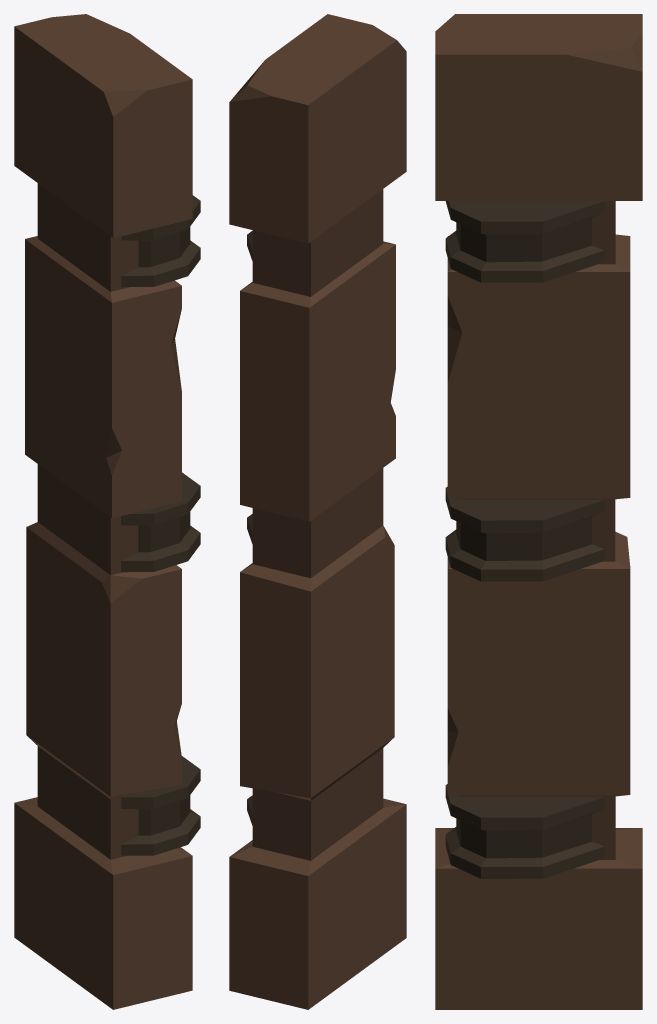
Rendered from SM_Env_Port_Drydock_Gate_Hinge_01.fbx.
3 views of the same model, side by side, from view 1: azimuth 30°, elevation 25°; view 2: azimuth 150°, elevation 25°; view 3: azimuth 270°, elevation 25° (orthographic). The views are drawn at different scales.
Parts seen in each view (by area): view 1: SM_Env_Port_Drydock_Gate_Hinge_01; view 2: SM_Env_Port_Drydock_Gate_Hinge_01; view 3: SM_Env_Port_Drydock_Gate_Hinge_01.
Part boxes in pixels (<box>): SM_Env_Port_Drydock_Gate_Hinge_01: <box>14,14,200,1009</box>; SM_Env_Port_Drydock_Gate_Hinge_01: <box>229,14,406,1009</box>; SM_Env_Port_Drydock_Gate_Hinge_01: <box>435,14,642,1009</box>.
Bounding box in the file's own units: 191 × 1525 × 300.
